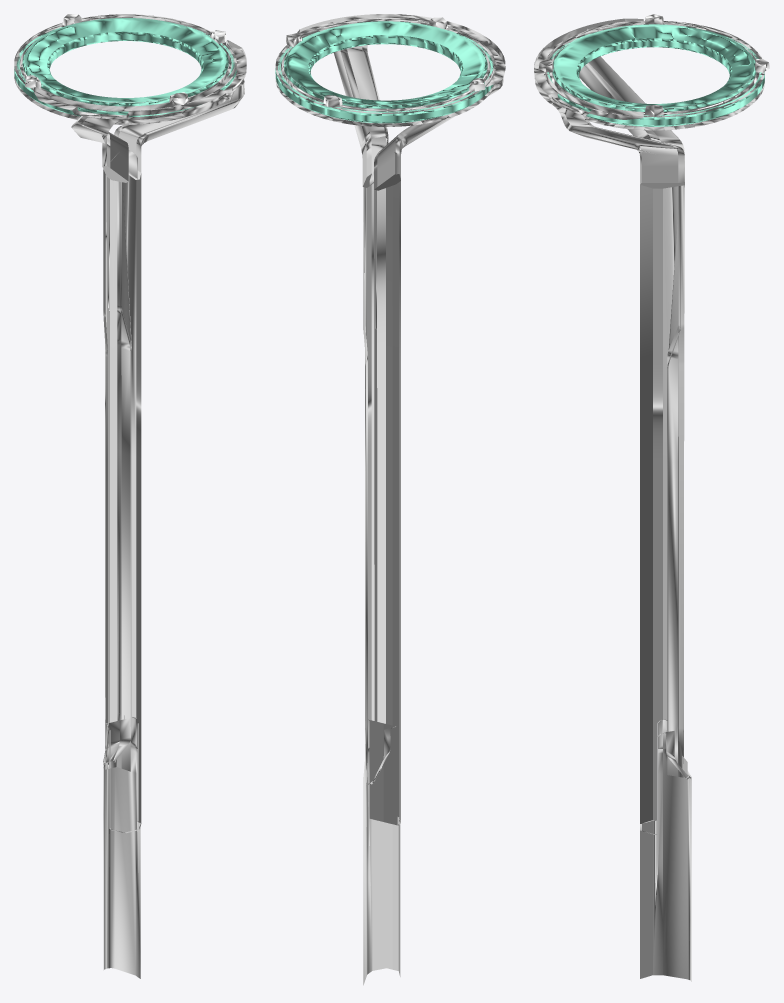
Rendered from ht_med_addon_lightpost_001_a.glb.
3 views of the same model, side by side, from view 1: azimuth 30°, elevation 25°; view 2: azimuth 150°, elevation 25°; view 3: azimuth 270°, elevation 25° (orthographic).
Size of the model in its own units: 4.83 by 21.05 by 4.89.
